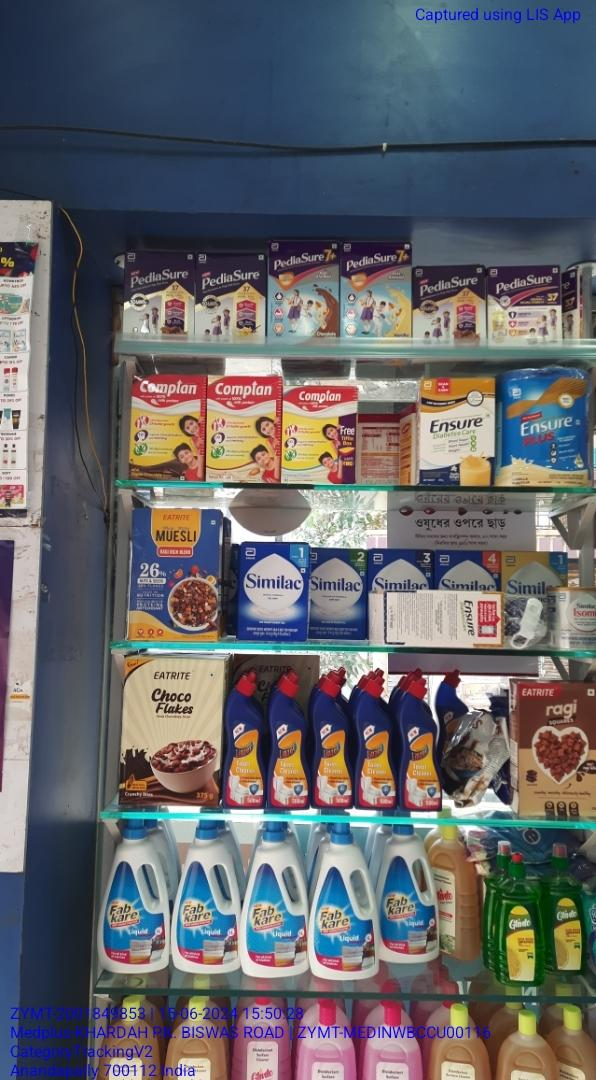COMPLAN_CHOCOLATE_500_GMS_PACK: (131, 372, 203, 479)
COMPLAN_CREAMY_CLASSIC_500_G_PACK: (284, 385, 355, 484)
COMPLAN_KESAR_BADAM_500_GMS_PACK: (207, 375, 281, 483)
PEDIASURE_7_PLUS_CHOCOLATE_400_G_PACK: (268, 240, 338, 342)
